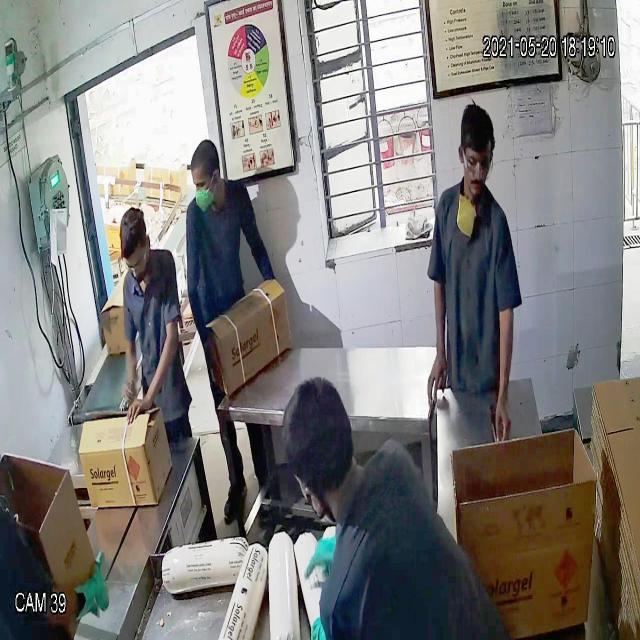glasses: (457, 146, 496, 178)
no-glass: (192, 170, 220, 194)
